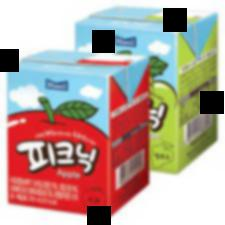picnic_apple: (6, 57, 138, 219)
